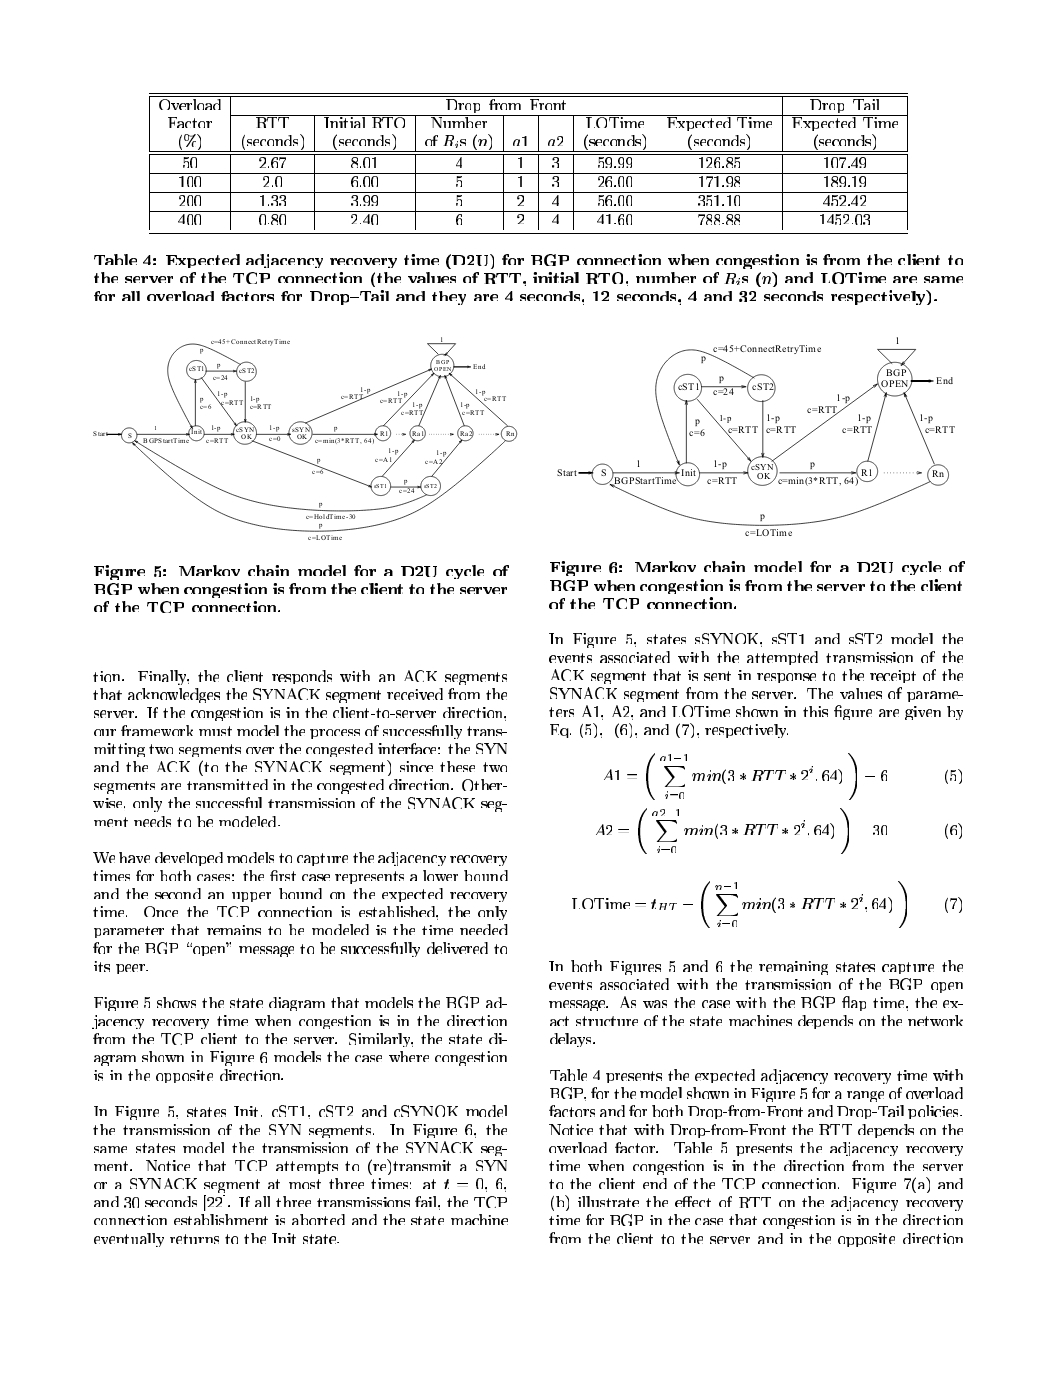Table: (149, 92, 907, 230)
figure: (93, 335, 517, 541), (557, 335, 954, 537)
formula: (572, 880, 961, 928), (604, 752, 961, 800), (596, 807, 961, 854)
